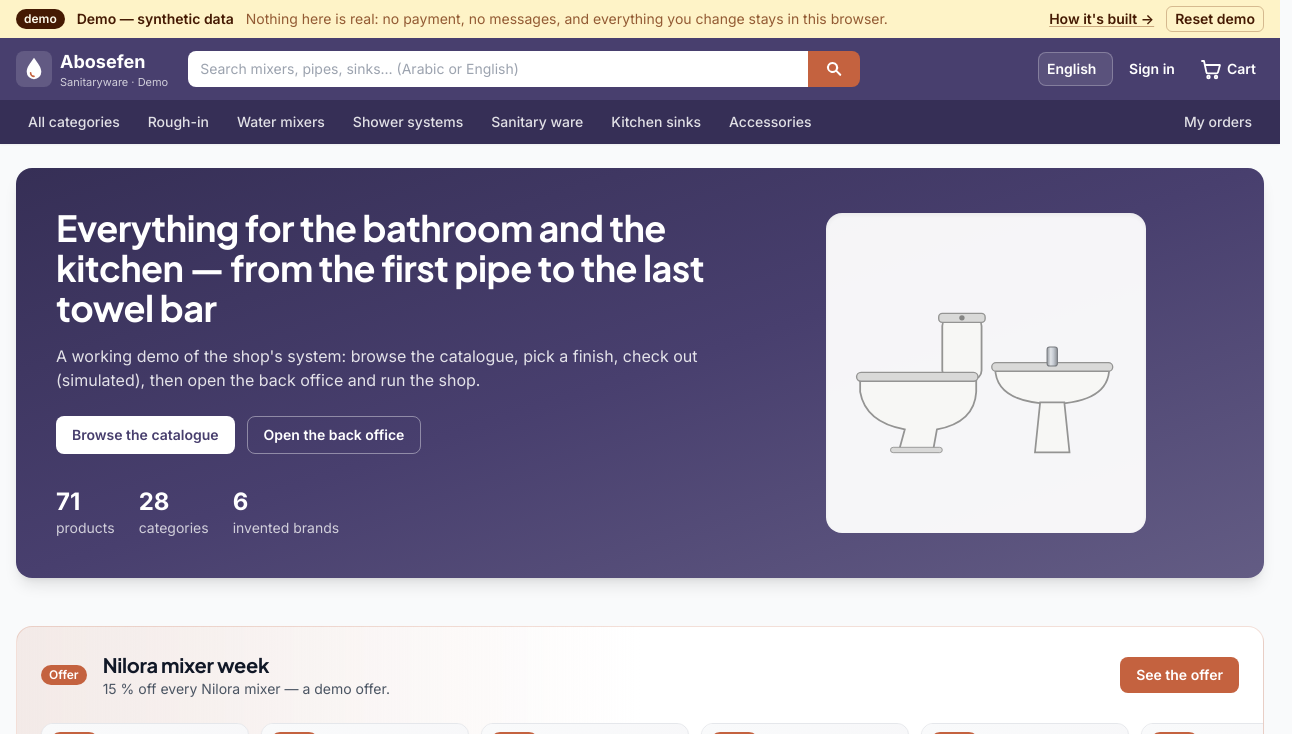
it: storefront routes › opens in English and offers English and German only — an earlier Arabic choice opens in English
Expected: the heading "Everything for the bathroom and the kitchen — from the first pipe to the last towel bar" is shown, [56, 205, 704, 330]
Select "Deutsch" in the dropdown with test id "language-picker". click: (1076, 69)
box: [1038, 52, 1113, 86]
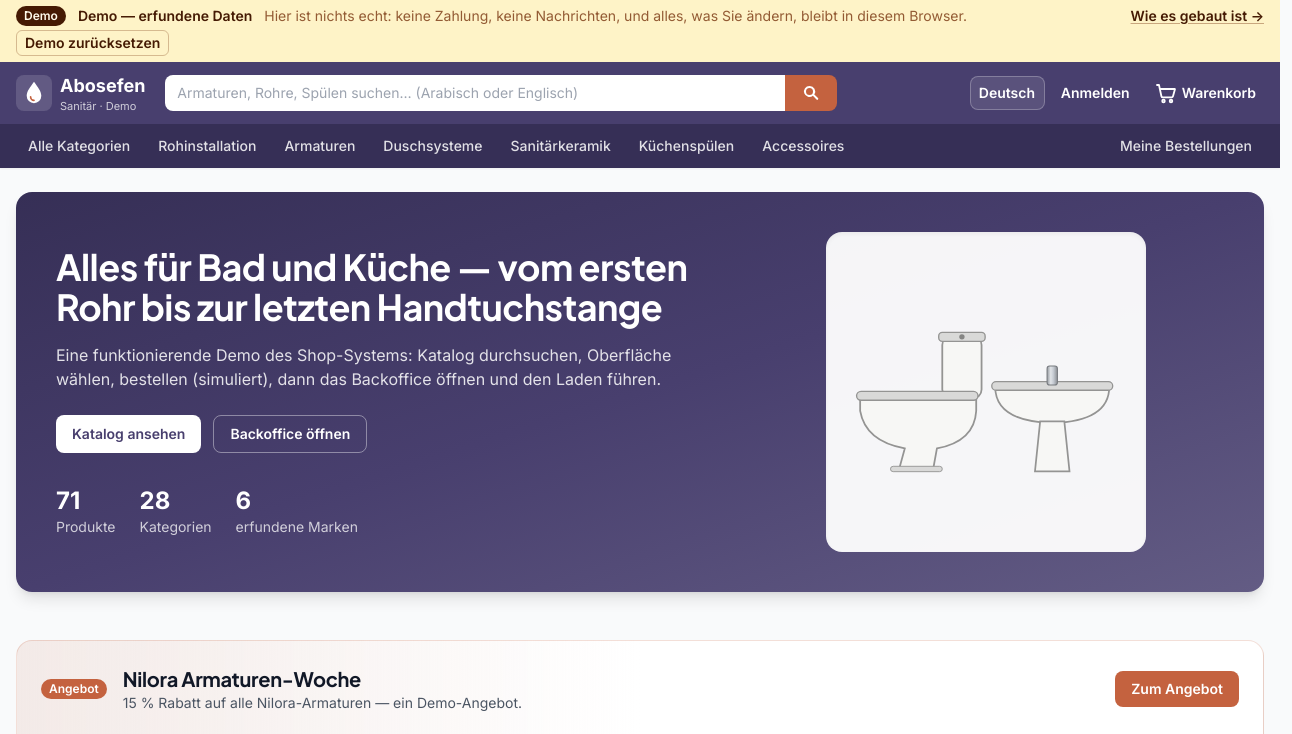
Expected: the element with test id "demo-banner" shows "Demo — erfundene Daten", [78, 7, 252, 24]
